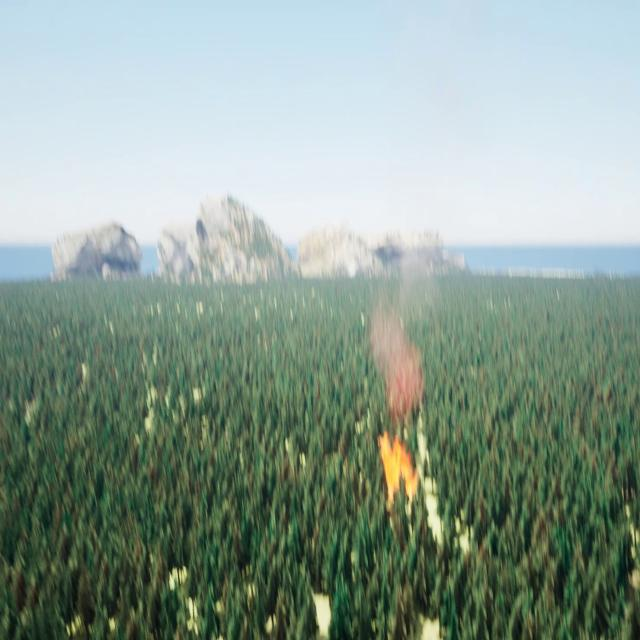fire: (379, 429, 422, 498)
smoke: (370, 298, 426, 412)
